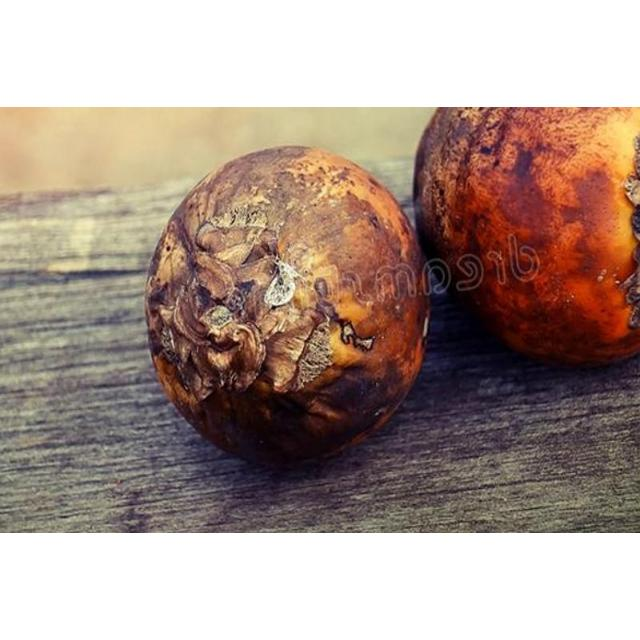damaged: (144, 146, 432, 471), (413, 107, 639, 369)
